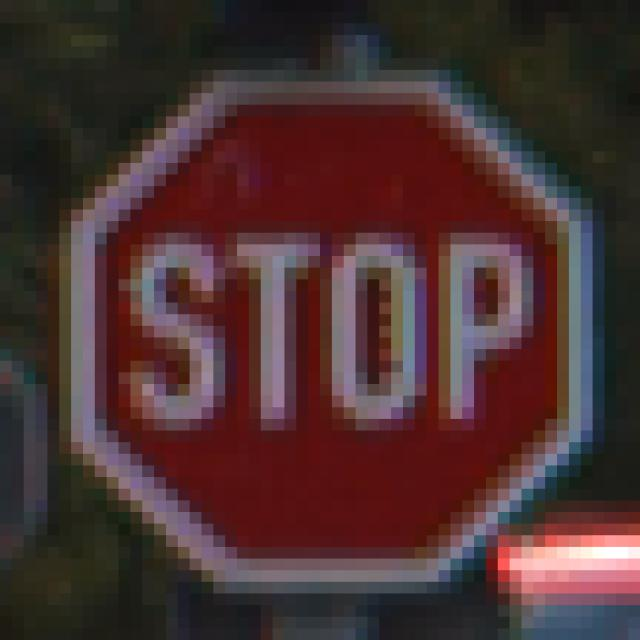STOP: (60, 71, 582, 583)
